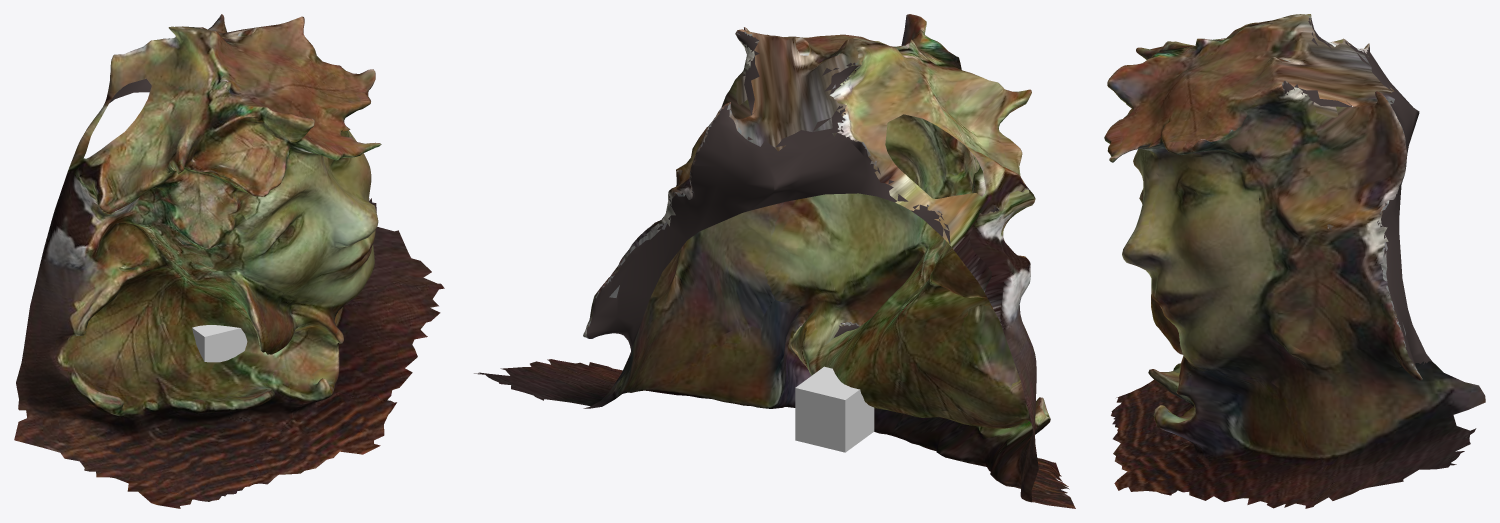
File: bladerKop.glb
The picture shows the model from 3 angles, left to right: view 1: azimuth 30°, elevation 25°; view 2: azimuth 150°, elevation 25°; view 3: azimuth 270°, elevation 25°; orthographic projection. The views are drawn at different scales.
Visible parts, largest first — view 1: bladerKop, Cube; view 2: bladerKop, Cube; view 3: bladerKop.
Part boxes in pixels (<box>): bladerKop: <box>14,14,444,508</box>; Cube: <box>192,325,247,362</box>; bladerKop: <box>474,14,1075,508</box>; Cube: <box>795,366,874,452</box>; bladerKop: <box>1104,14,1485,508</box>.
Bounding box in the file's own units: 20.25 × 17.34 × 13.98.
2 materials, 1 textured.
